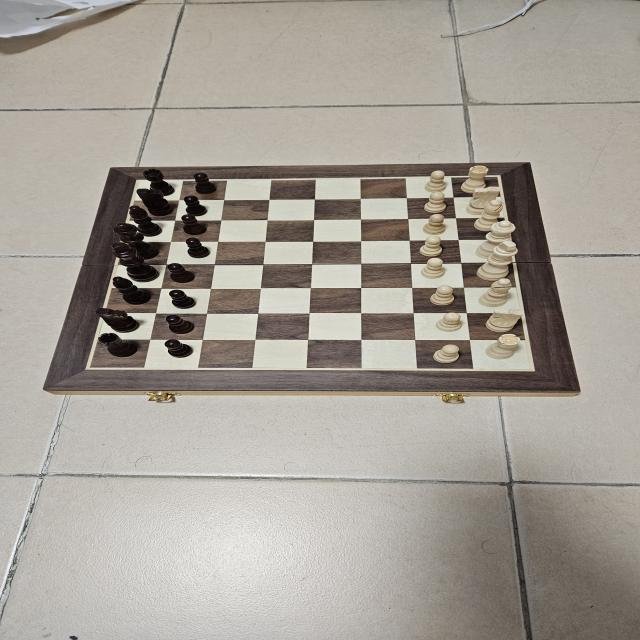chess-table-corners: (522, 366, 541, 372), (79, 366, 98, 370), (492, 174, 506, 178), (132, 178, 142, 182)
